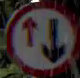Two way: (5, 1, 79, 77)
